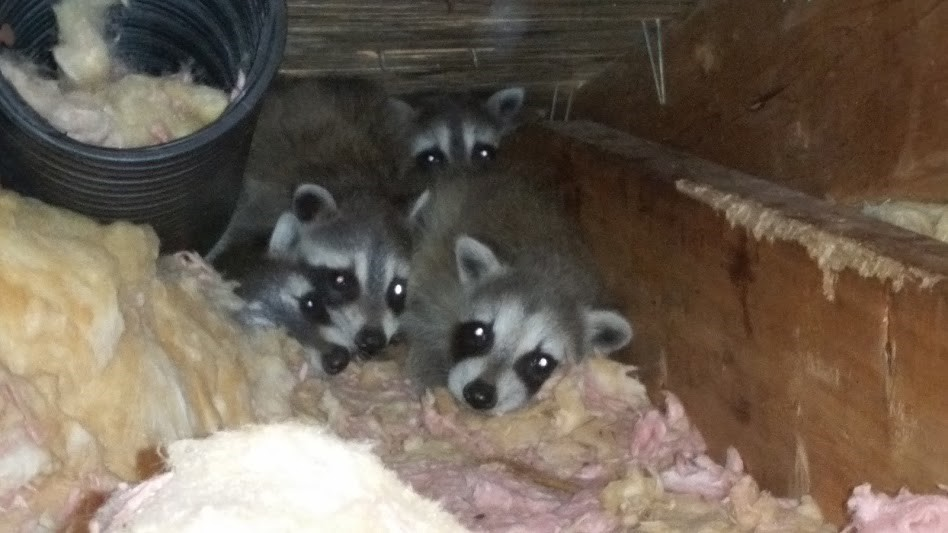raccoon: (425, 180, 644, 433), (277, 59, 531, 196), (290, 173, 411, 344)
